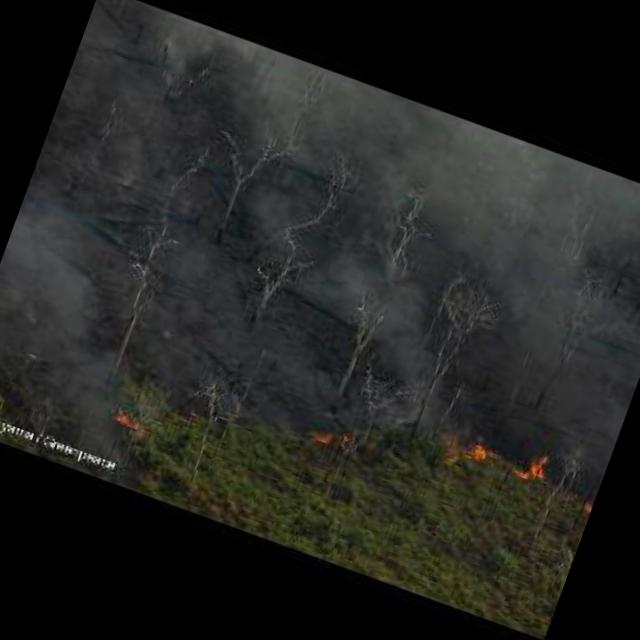fire: (434, 415, 550, 498), (308, 411, 352, 451), (102, 405, 156, 433), (583, 497, 595, 508)
